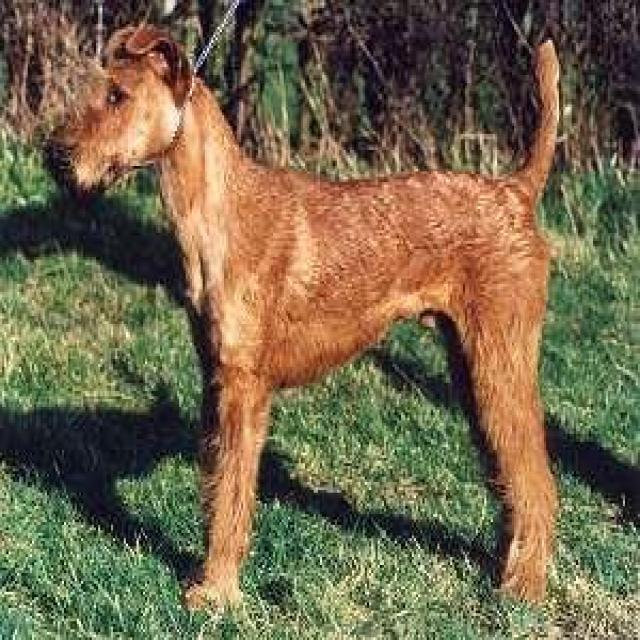good: (35, 21, 581, 640)
